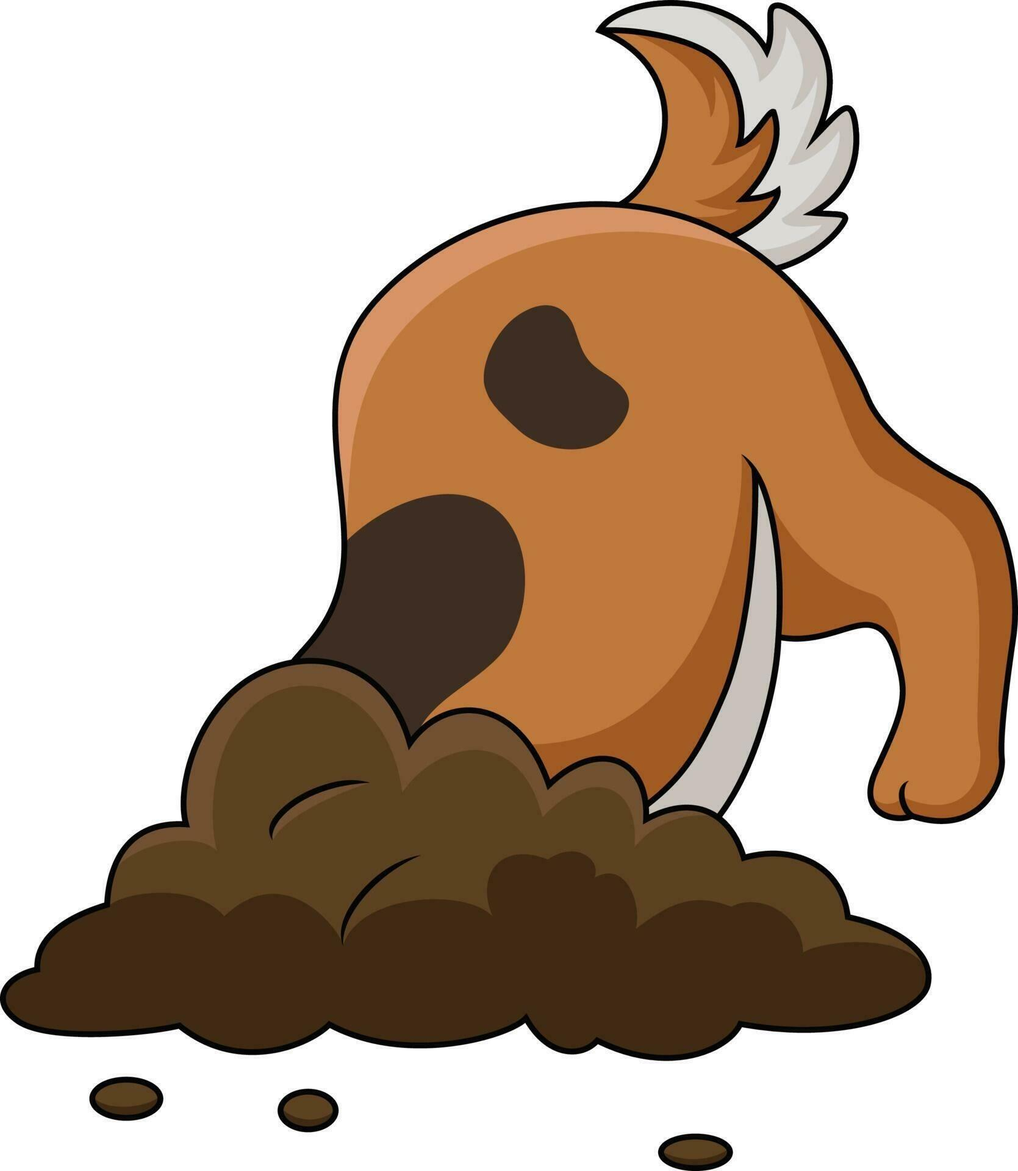adult_dog: (298, 1, 1018, 825)
